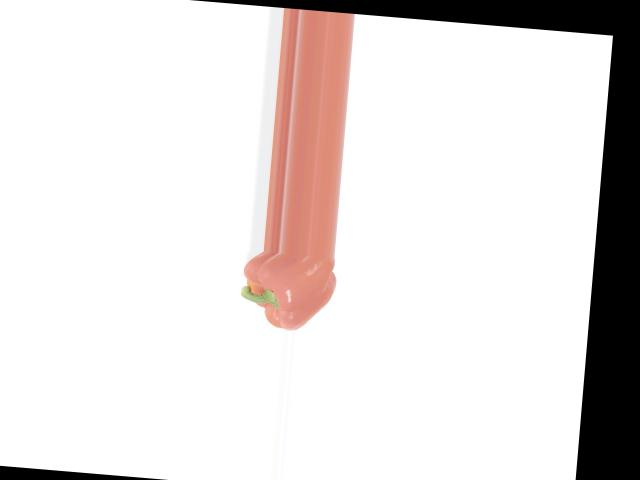bell_pepper: (225, 248, 348, 335)
